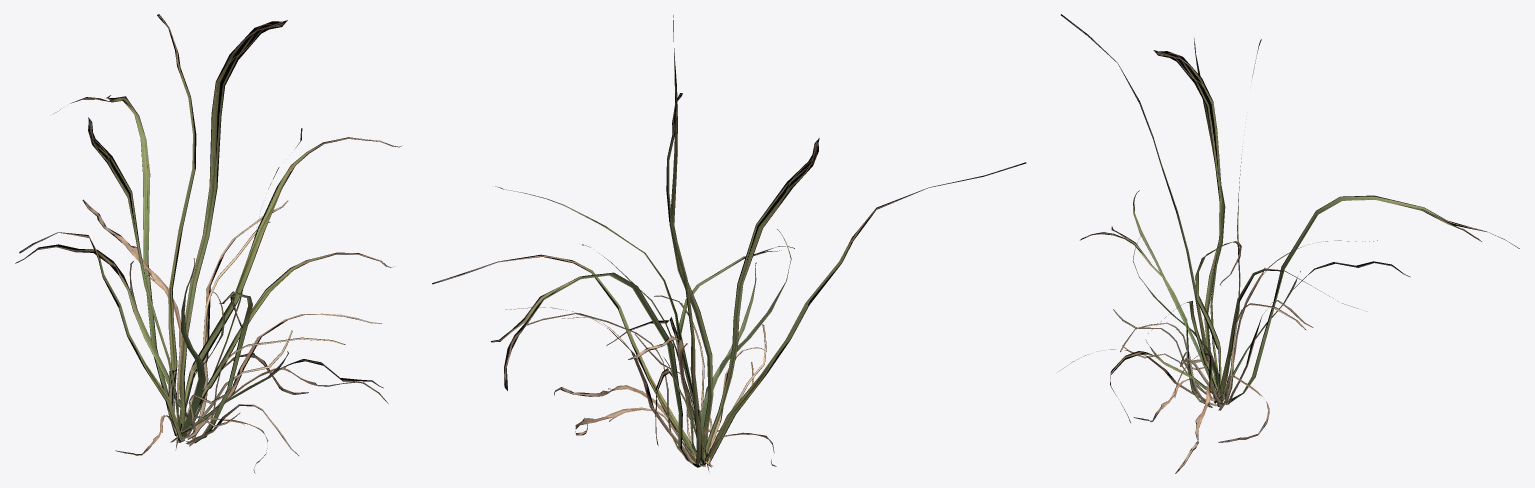
Rendered from grass_medium_02_c.glb.
3 renders of one model, left to right at view 1: azimuth 30°, elevation 25°; view 2: azimuth 150°, elevation 25°; view 3: azimuth 270°, elevation 25°, orthographic. The views are drawn at different scales.
Visible parts, largest first — view 1: grass_medium_02_c; view 2: grass_medium_02_c; view 3: grass_medium_02_c.
Part boxes in pixels (<box>): grass_medium_02_c: <box>15,14,402,473</box>; grass_medium_02_c: <box>432,15,1026,471</box>; grass_medium_02_c: <box>1060,14,1519,473</box>.
Bounding box in the file's own units: 0.2617 × 0.2317 × 0.2495.
Materials: 1 (1 with a texture image).
